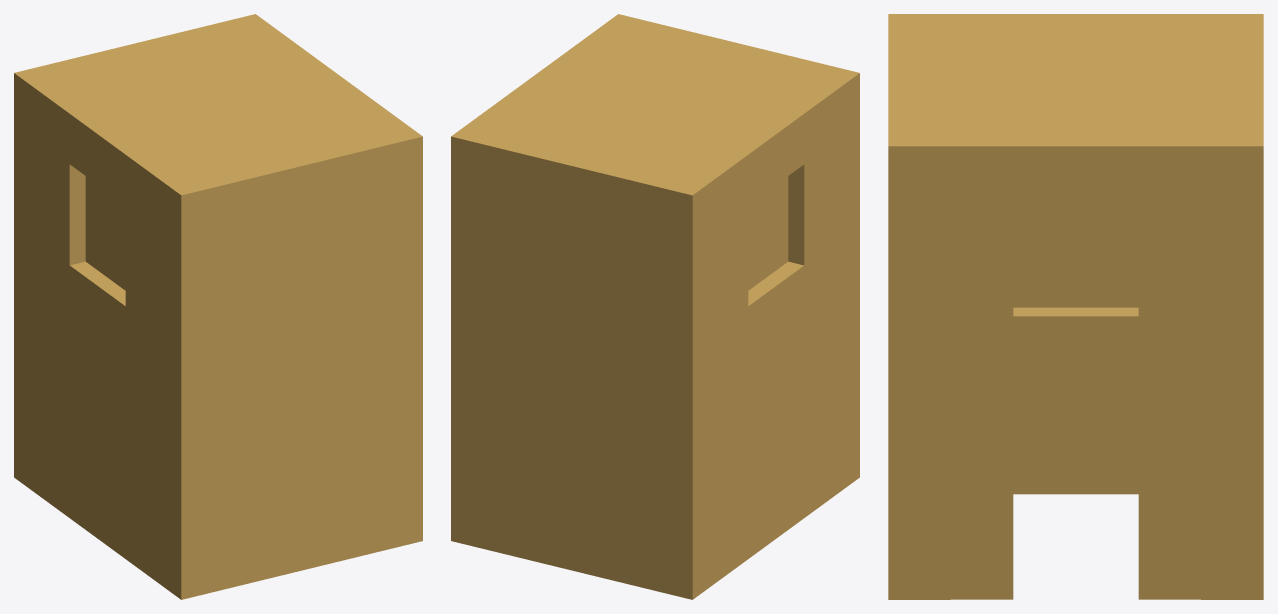
The model's file is casa3techoB.obj.
3 renders of one model, left to right at view 1: azimuth 30°, elevation 25°; view 2: azimuth 150°, elevation 25°; view 3: azimuth 270°, elevation 25°, orthographic. The views are drawn at different scales.
Visible parts, largest first — view 1: Wall.025; view 2: Wall.025; view 3: Wall.025.
Boxes of the visible parts, x1,y1,x2,y2 form: Wall.025: [14, 14, 422, 599]; Wall.025: [451, 14, 859, 599]; Wall.025: [888, 14, 1263, 599].
Size of the model in its own units: 5 by 8 by 6.
9 materials, 9 textured.
